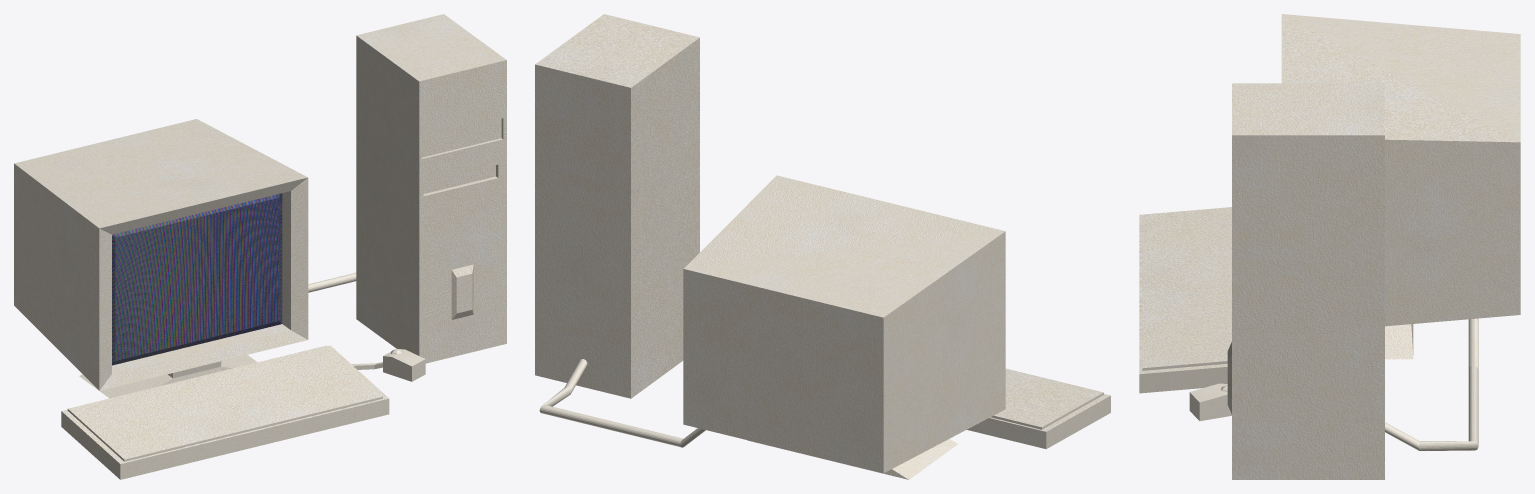
The model's file is Computer.fbx.
3 renders of one model, left to right at view 1: azimuth 30°, elevation 25°; view 2: azimuth 150°, elevation 25°; view 3: azimuth 270°, elevation 25°, orthographic. The views are drawn at different scales.
Parts seen in each view (by area): view 1: polySurface54; view 2: polySurface54; view 3: polySurface54.
Part boxes in pixels (left/top/right/bottom): polySurface54: left=14, top=14, right=506, bottom=479; polySurface54: left=535, top=14, right=1110, bottom=479; polySurface54: left=1139, top=14, right=1520, bottom=479.
Size of the model in its own units: 22.34 by 14.5 by 14.3.
1 material, 1 textured.
